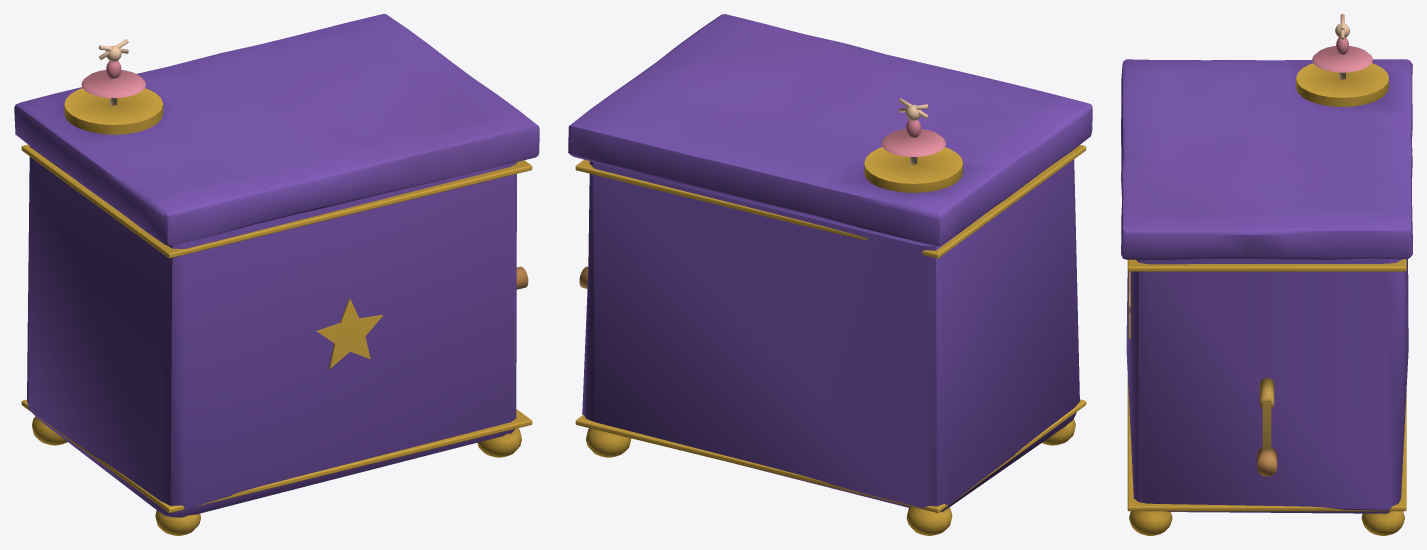
Rendered from den_music_box.glb.
3 views of the same model, side by side, from view 1: azimuth 30°, elevation 25°; view 2: azimuth 150°, elevation 25°; view 3: azimuth 270°, elevation 25° (orthographic). The views are drawn at different scales.
Visible parts, largest first — view 1: den_music_box; view 2: den_music_box; view 3: den_music_box.
Part boxes in pixels (x1,y1,x2,y2): den_music_box: (14, 14, 539, 535); den_music_box: (568, 14, 1092, 535); den_music_box: (1121, 14, 1412, 535).
Bounding box in the file's own units: 16.22 × 14.56 × 10.04.
